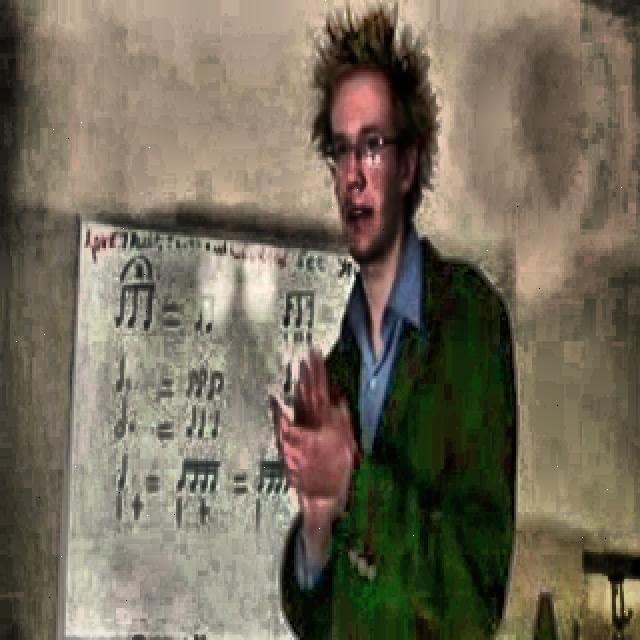F: (268, 6, 521, 636)
